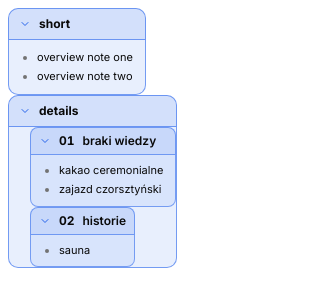
Test: Hdr1Renderer › collapses a single child section without affecting its sibling
This screenshot has width=320, height=285.
What coordinates should you click on to do the following:
click the button "01 braki wiedzy"
I would click on:
 (103, 141)
Its box is [30,127,176,155].
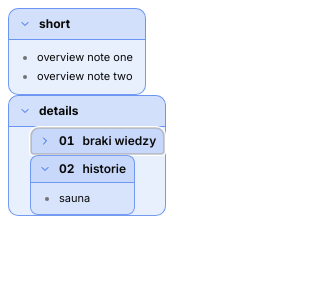
Check: the list item "sauna" is shown, box [59,191,90,205]
Check: the list item "kakao ceremonialne" is gone
